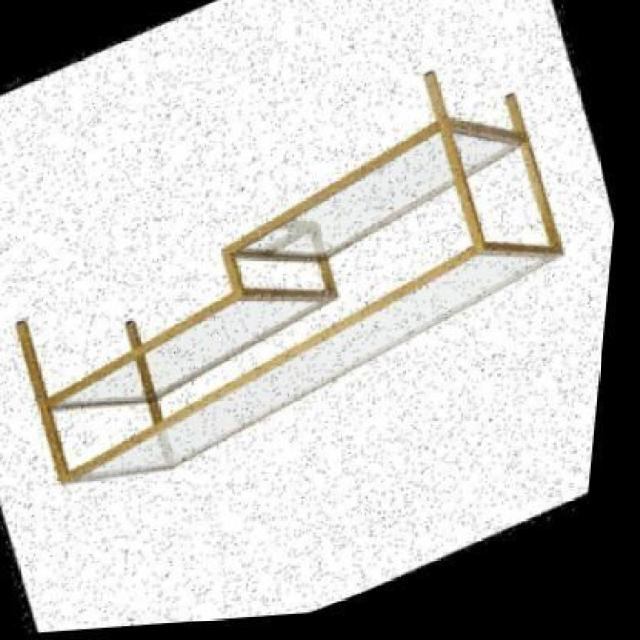tables: (0, 0, 631, 638)
